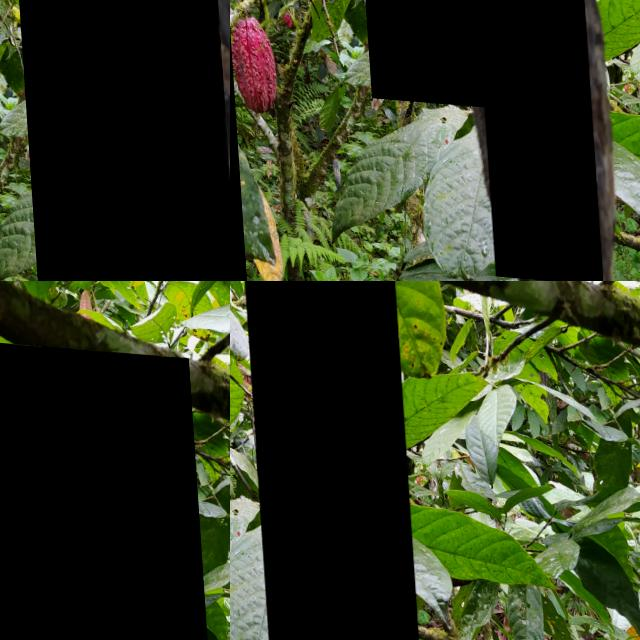Fitoftora: (237, 281, 419, 640), (470, 0, 595, 278), (355, 0, 521, 105)
Monilia: (6, 0, 230, 281)
Sana: (0, 333, 207, 640)
